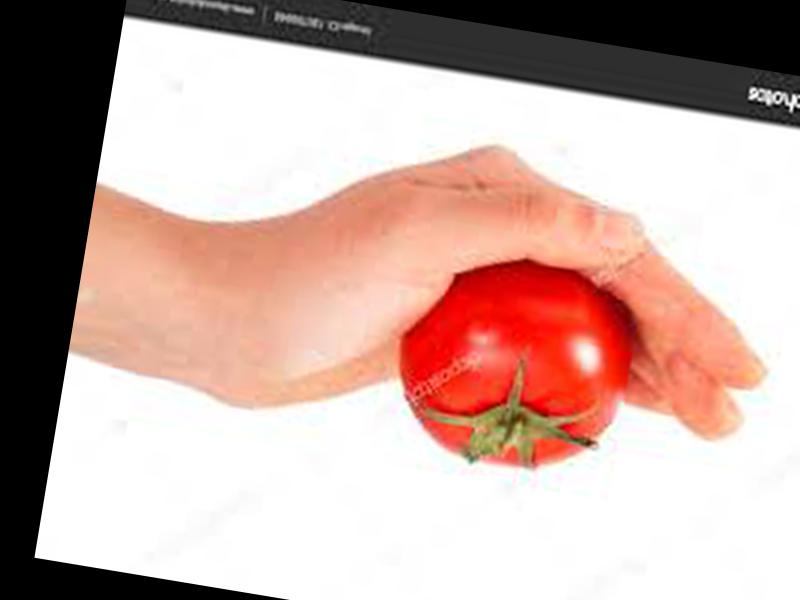Tomato: (382, 246, 637, 480)
